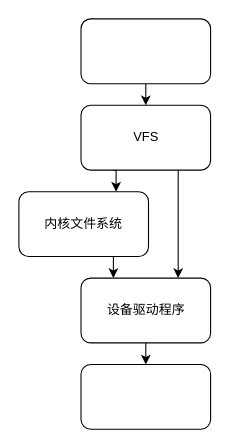
The diagram is 230 pixels wide and 448 high, and some of its shapes have lost their labels. The shapes that lost their labels are listed below. From the top down, each one's centre as x and y in pixels, then its label:
(145,51): 用户进程
(145,396): /dev/sda
